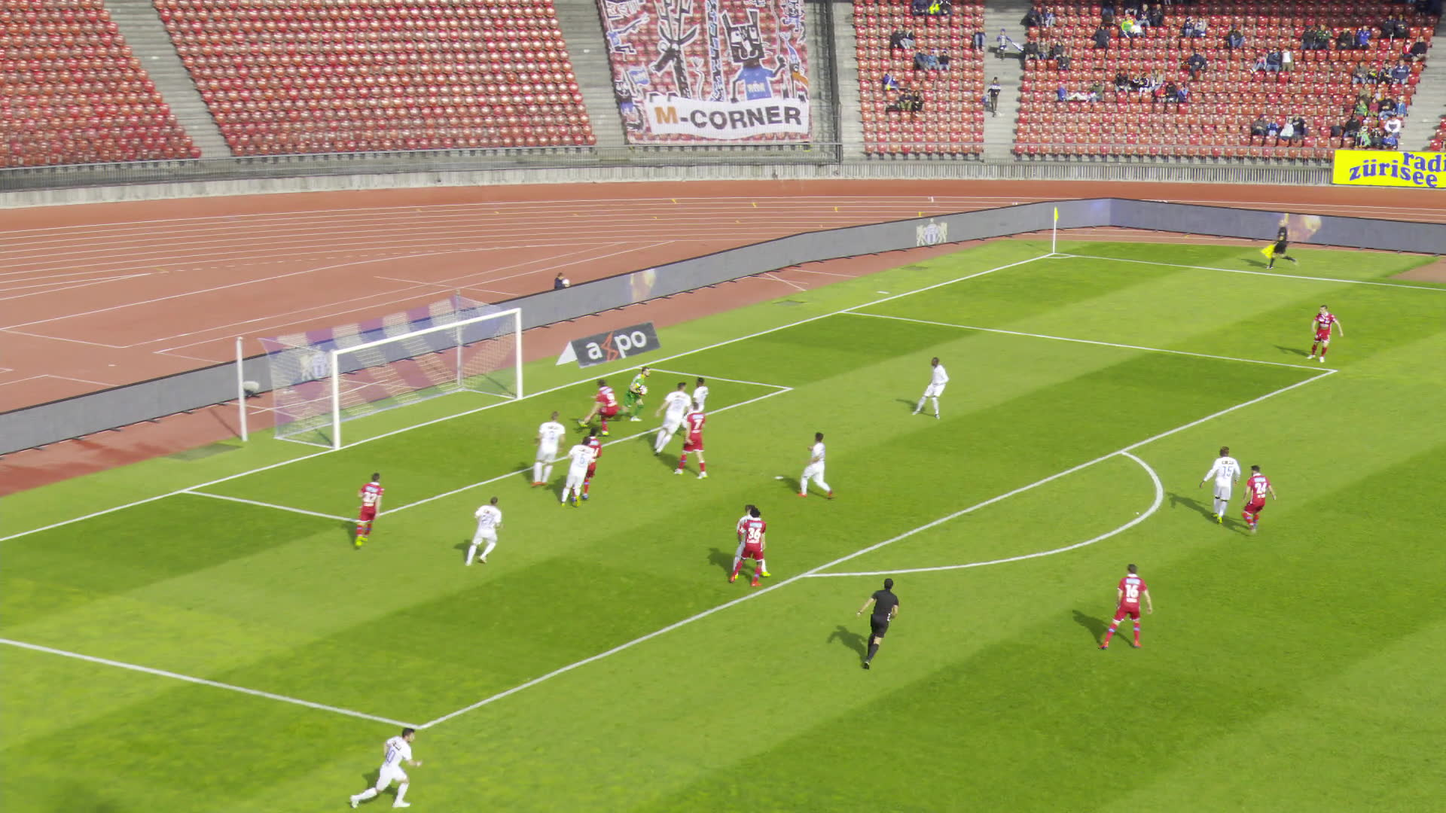ball: (639, 382, 648, 393)
player: (354, 726, 423, 805), (1101, 562, 1151, 648), (654, 376, 694, 454), (1200, 444, 1239, 521), (471, 492, 508, 565), (731, 506, 766, 583), (734, 499, 768, 575), (678, 400, 711, 477), (539, 410, 572, 486), (1240, 464, 1275, 535), (799, 429, 835, 498), (565, 431, 599, 504), (914, 353, 950, 418), (586, 376, 624, 434), (355, 472, 383, 547), (1307, 303, 1341, 361), (621, 366, 651, 418), (685, 375, 712, 431), (584, 423, 604, 498)
referee: (857, 578, 898, 665), (1266, 218, 1299, 269)
